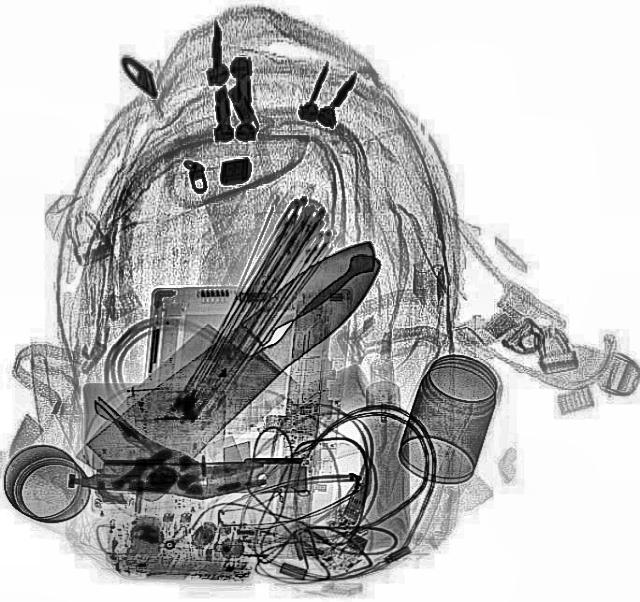Knife: (67, 211, 396, 511), (80, 220, 420, 510)
